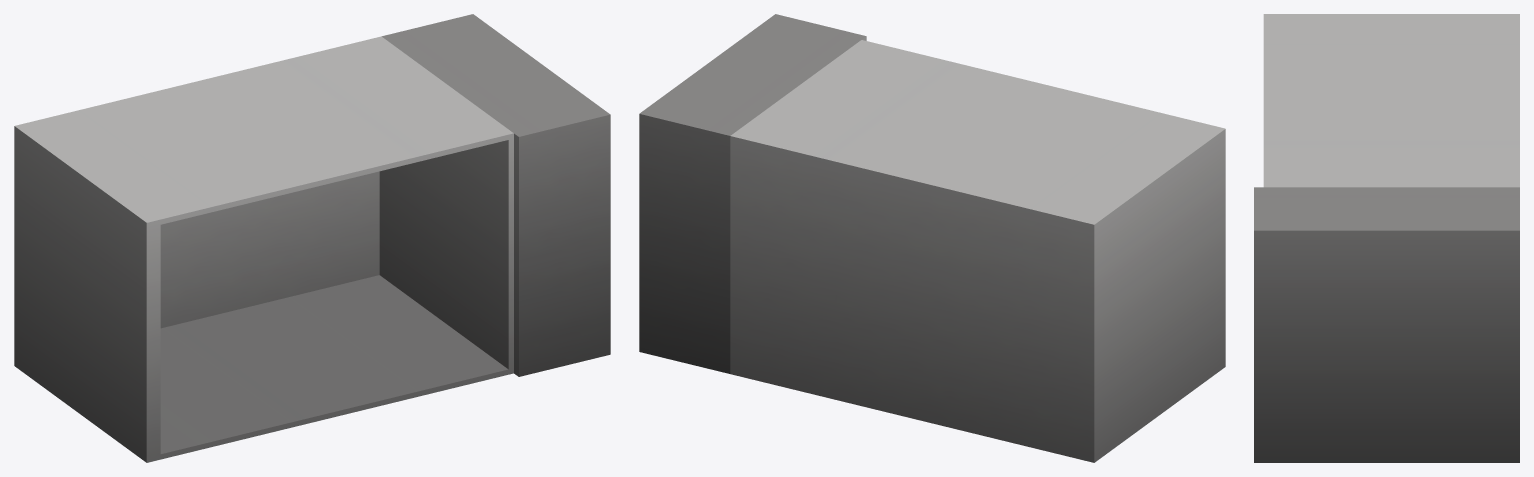
Rendered from Microwave_Oven.fbx.
The picture shows the model from 3 angles, left to right: view 1: azimuth 30°, elevation 25°; view 2: azimuth 150°, elevation 25°; view 3: azimuth 270°, elevation 25°; orthographic projection. The views are drawn at different scales.
Visible parts, largest first — view 1: Microwave_Oven; view 2: Microwave_Oven; view 3: Microwave_Oven.
Part boxes in pixels (bbox=[...]): Microwave_Oven: bbox=[14, 14, 610, 462]; Microwave_Oven: bbox=[639, 14, 1225, 462]; Microwave_Oven: bbox=[1254, 14, 1519, 462].
Bounding box in the file's own units: 80 × 40 × 41.5.
